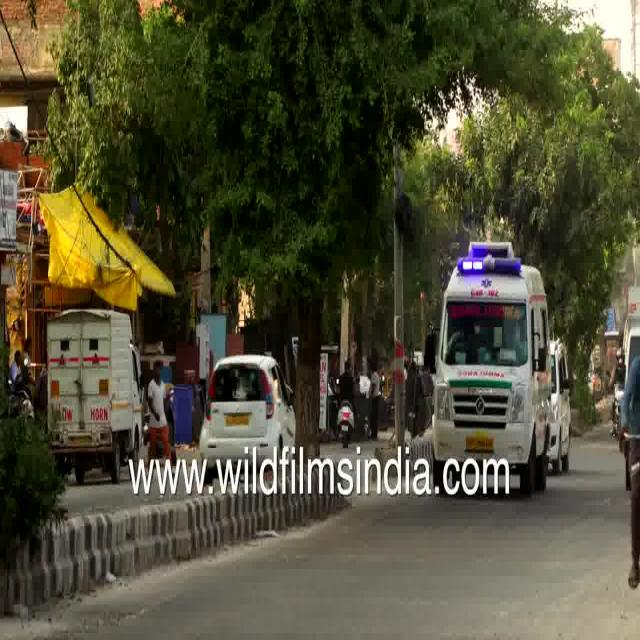ambulance: (434, 230, 550, 471)
